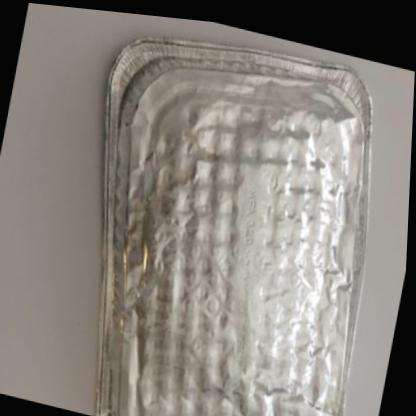Metal: (97, 32, 371, 416)
